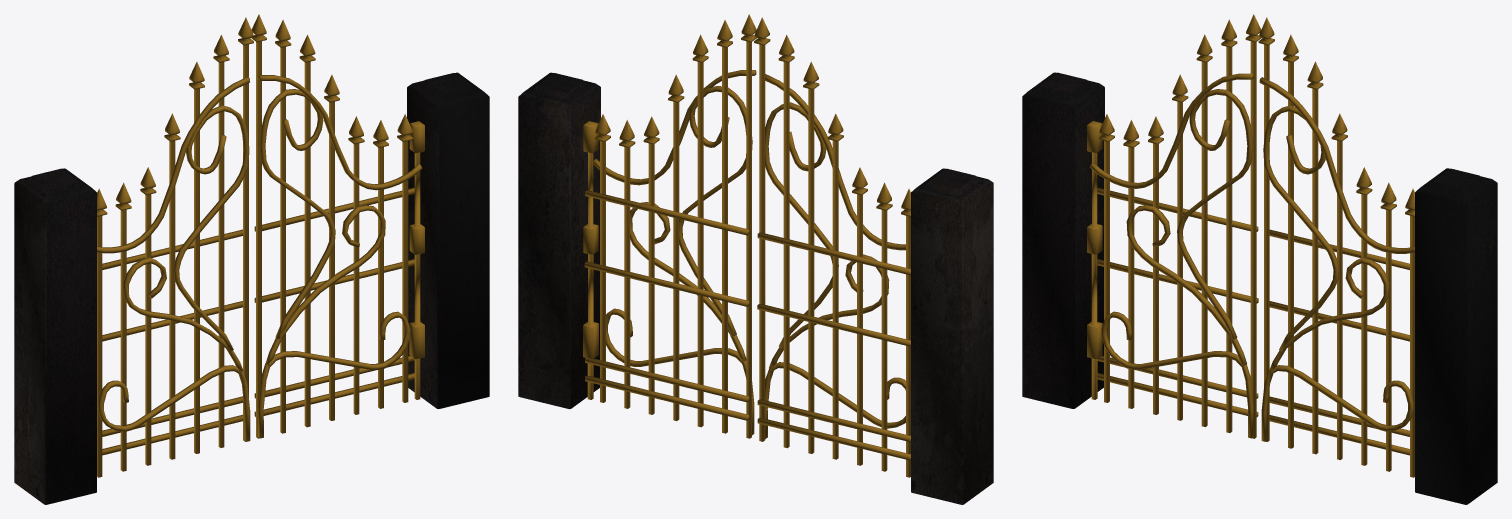
Rendered from gold gate.fbx.
3 renders of one model, left to right at view 1: azimuth 30°, elevation 25°; view 2: azimuth 150°, elevation 25°; view 3: azimuth 330°, elevation 25°, orthographic.
Parts seen in each view (by area): view 1: kolonny_Cube.000_0, zabor_Cube.000_0.001, zabor_Cube.000_0; view 2: kolonny_Cube.000_0, zabor_Cube.000_0.001, zabor_Cube.000_0; view 3: kolonny_Cube.000_0, zabor_Cube.000_0, zabor_Cube.000_0.001.
Boxes of the visible parts, bbox=[...] form: kolonny_Cube.000_0: bbox=[14, 72, 489, 504]; zabor_Cube.000_0.001: bbox=[251, 14, 424, 438]; zabor_Cube.000_0: bbox=[97, 17, 253, 477]; kolonny_Cube.000_0: bbox=[518, 72, 993, 504]; zabor_Cube.000_0.001: bbox=[583, 14, 756, 438]; zabor_Cube.000_0: bbox=[754, 17, 910, 477]; kolonny_Cube.000_0: bbox=[1022, 72, 1497, 504]; zabor_Cube.000_0: bbox=[1087, 14, 1261, 438]; zabor_Cube.000_0.001: bbox=[1258, 17, 1414, 477].
Size of the model in its own units: 400 by 365 by 49.06.
Materials: 1 (1 with a texture image).
